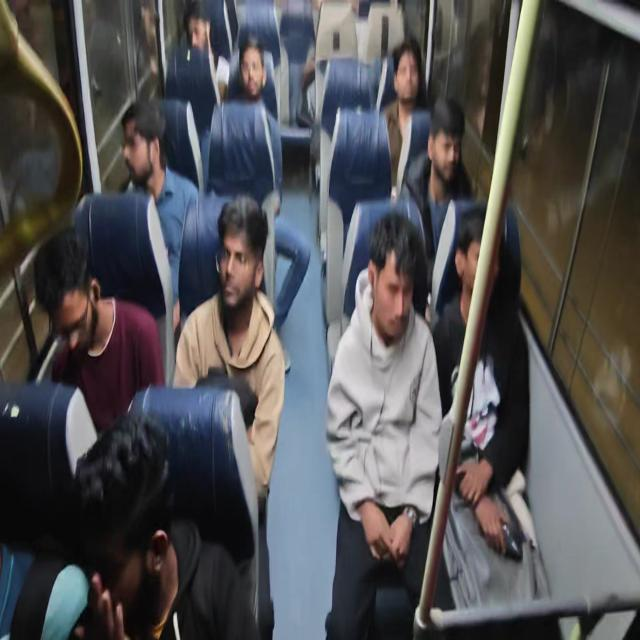person: (65, 400, 177, 630), (19, 230, 105, 363), (364, 215, 424, 356), (108, 97, 186, 193), (216, 189, 268, 320), (451, 204, 502, 316), (425, 96, 469, 193), (389, 36, 426, 124), (232, 24, 268, 112), (182, 0, 212, 68)
